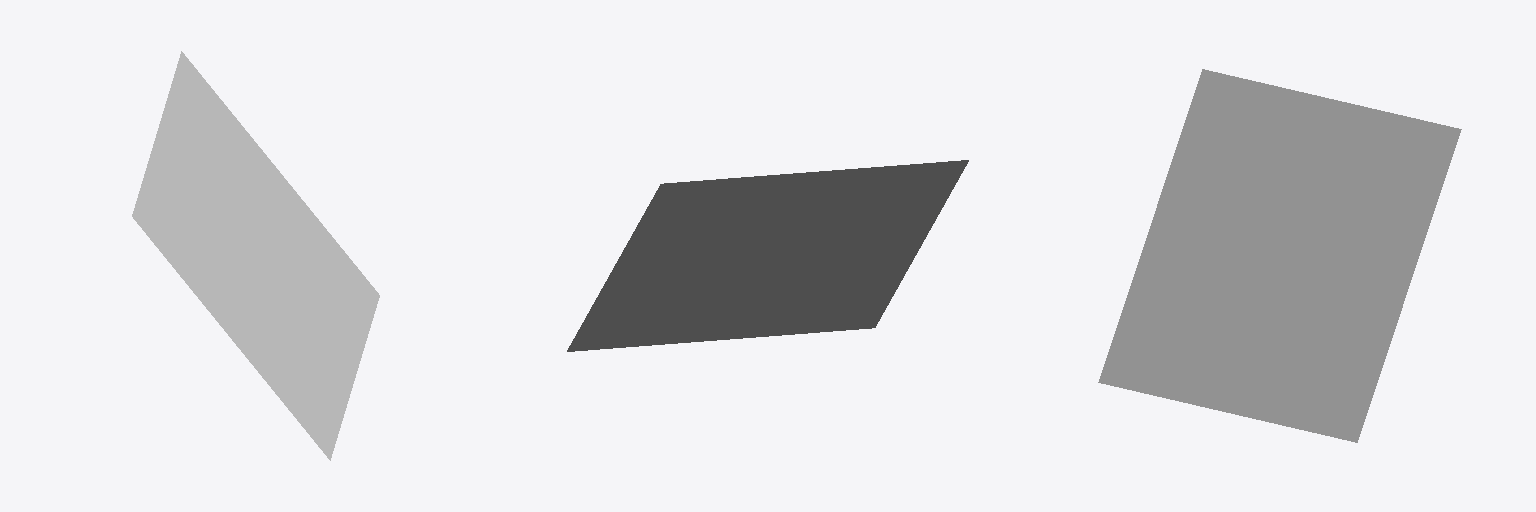
The model's file is MirrorIzq.obj.
The picture shows the model from 3 angles: view 1: azimuth 30°, elevation 25°; view 2: azimuth 150°, elevation 25°; view 3: azimuth 270°, elevation 25°; orthographic projection.
Visible parts, largest first — view 1: pPlane2; view 2: pPlane2; view 3: pPlane2.
Boxes of the visible parts, x1,y1,x2,y2 form: pPlane2: [132, 51, 379, 460]; pPlane2: [567, 160, 968, 351]; pPlane2: [1098, 69, 1461, 442].
Bounding box in the file's own units: 1.13 × 0.8929 × 1.09.